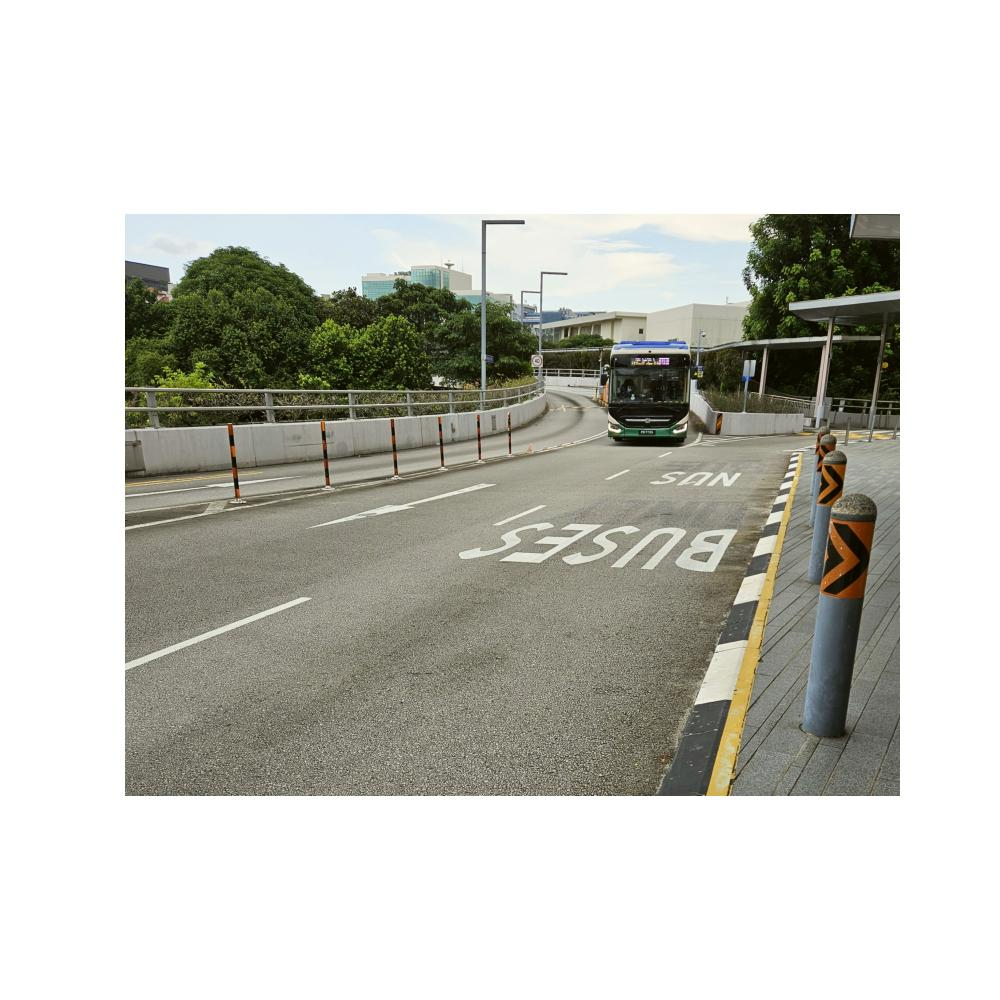bus: (599, 338, 700, 445)
